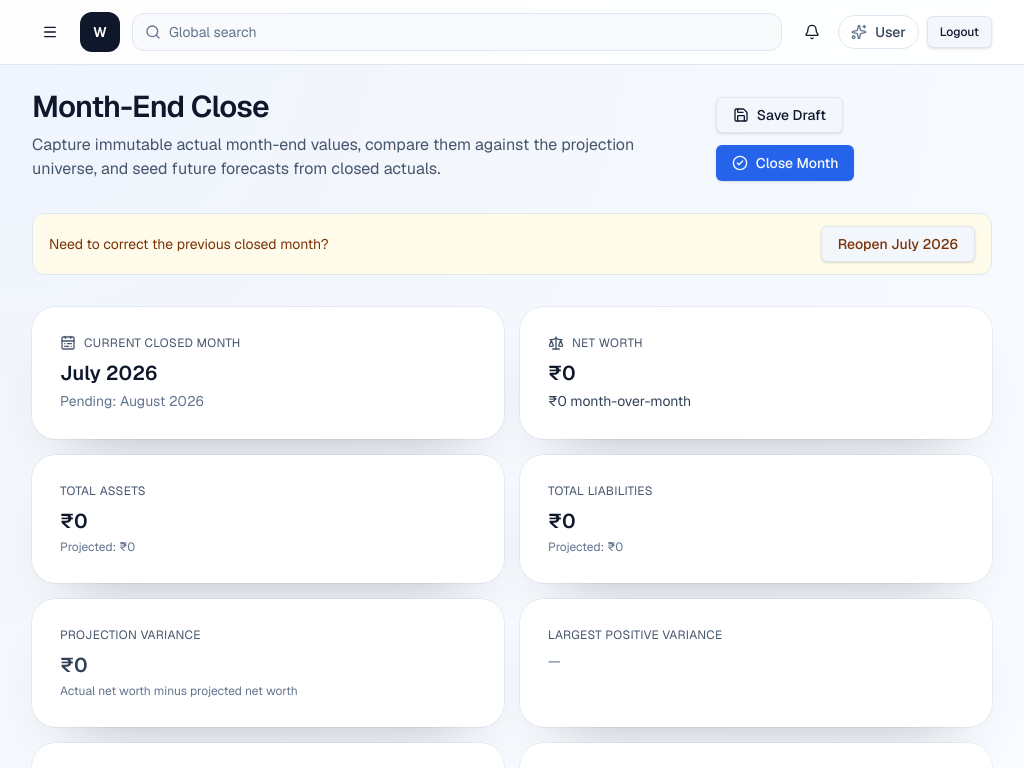
Test: MonthEndClosePage › reopens latest closed month and reloads workspace
Click the button "Reopen July 2026" at (898,244), box [821,226,975,262]
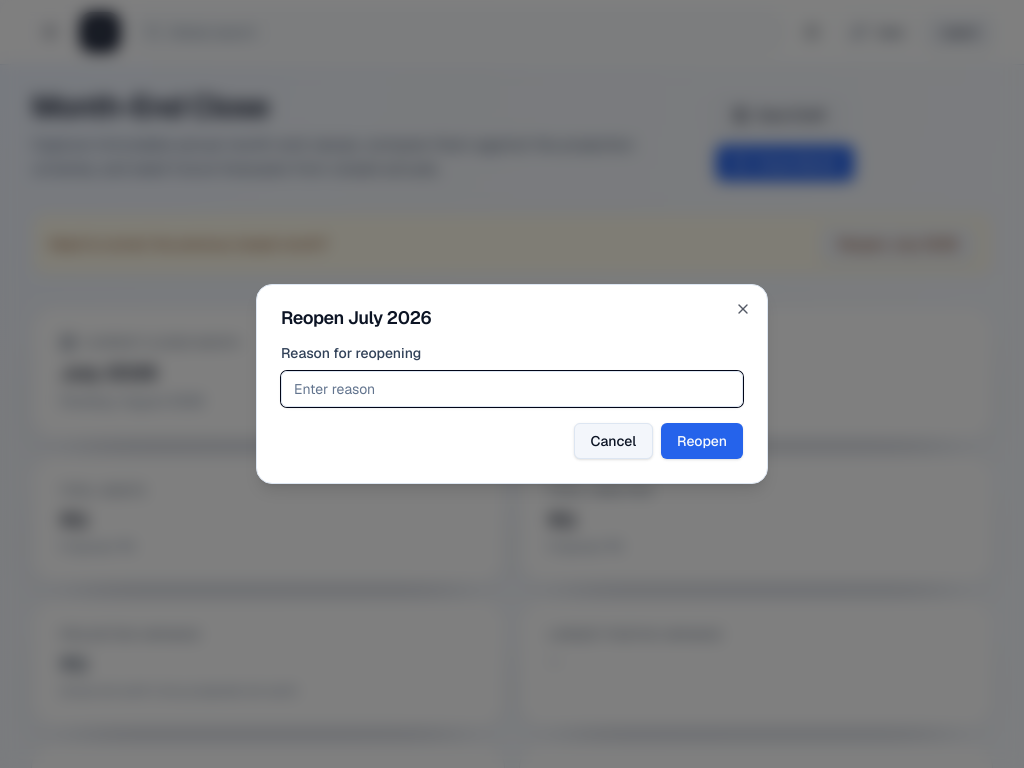
Type "Corrected investment valuation" into the field with placeholder "Enter reason" at (512,389), box [281,371,743,407]
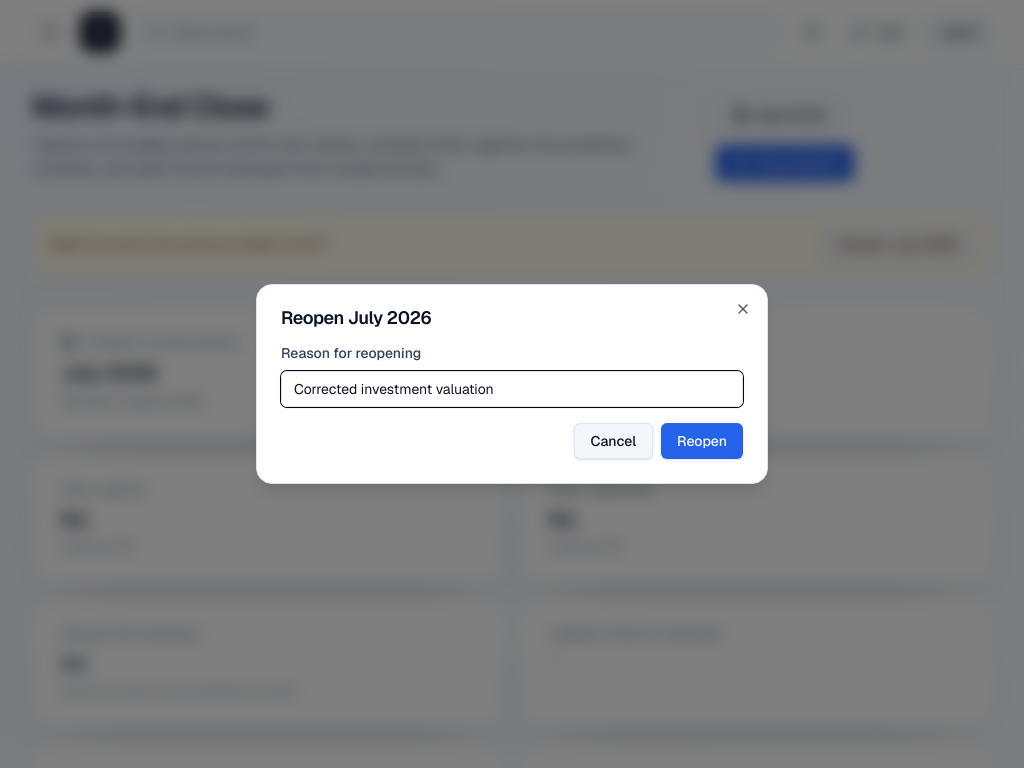
Click the button "Reopen" at (702,441), box [661,423,743,459]
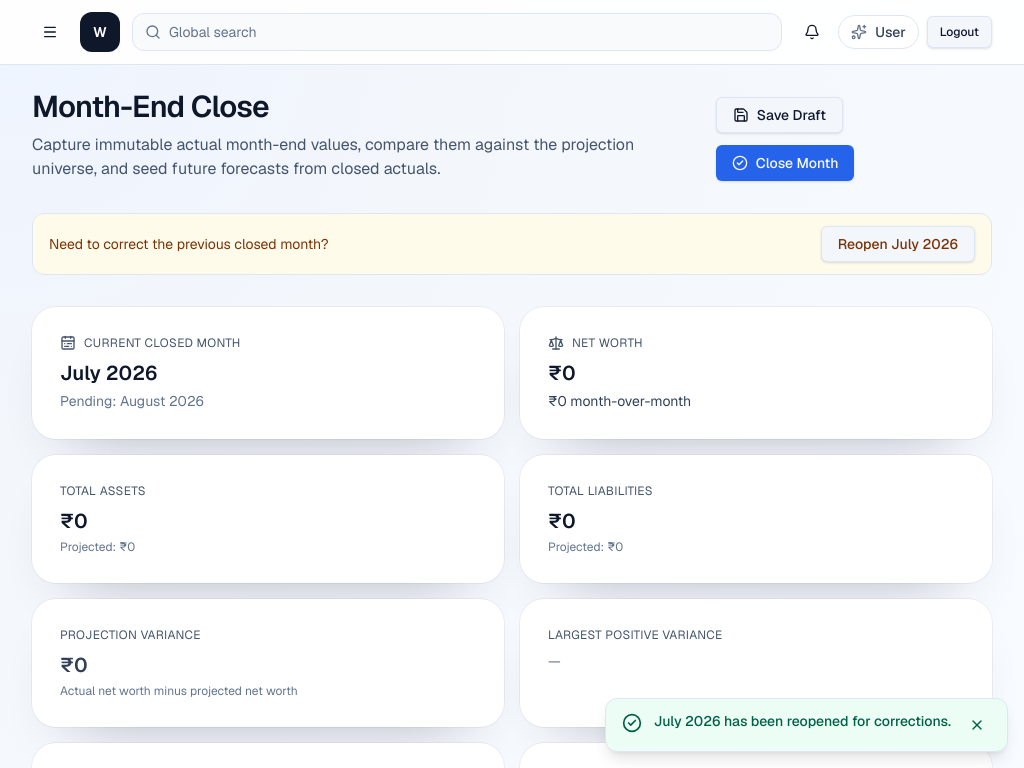
Expected: the button "Save Draft" is shown, [716,97,843,133]
Result: the text "July 2026 has been reopened for corrections." is shown at [654,711,951,731]
